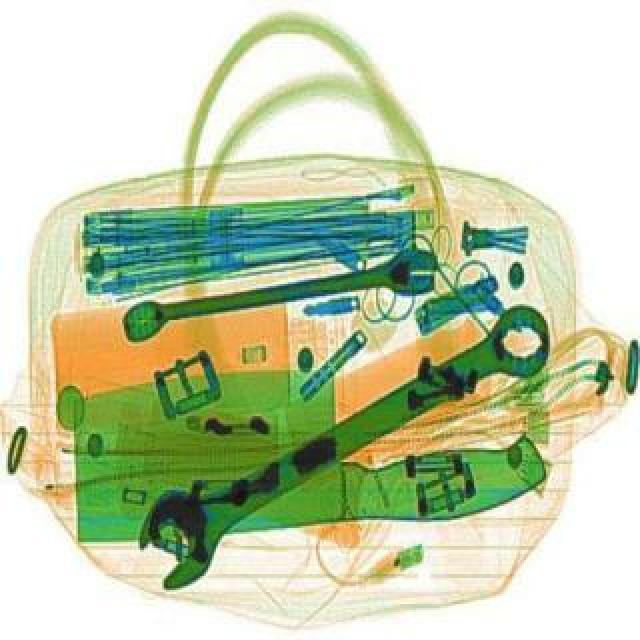knife: (66, 354, 546, 538)
scissors: (116, 284, 574, 592), (116, 240, 442, 340)
